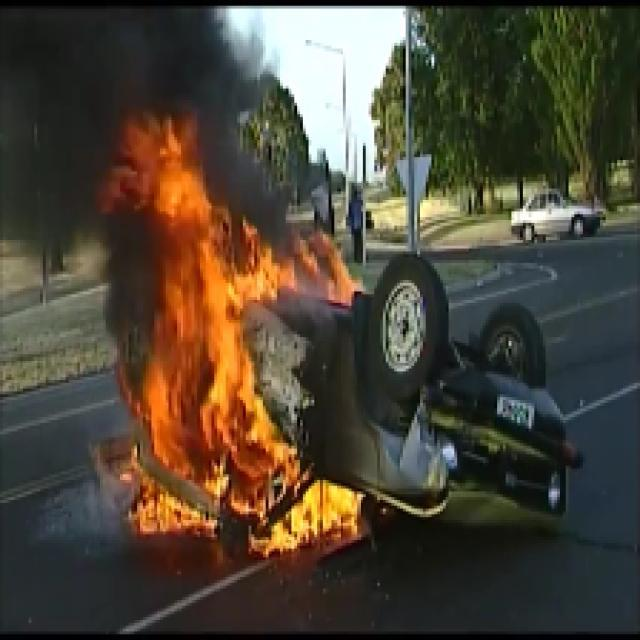Fire: (90, 110, 434, 580)
Smoke: (2, 12, 348, 268)
